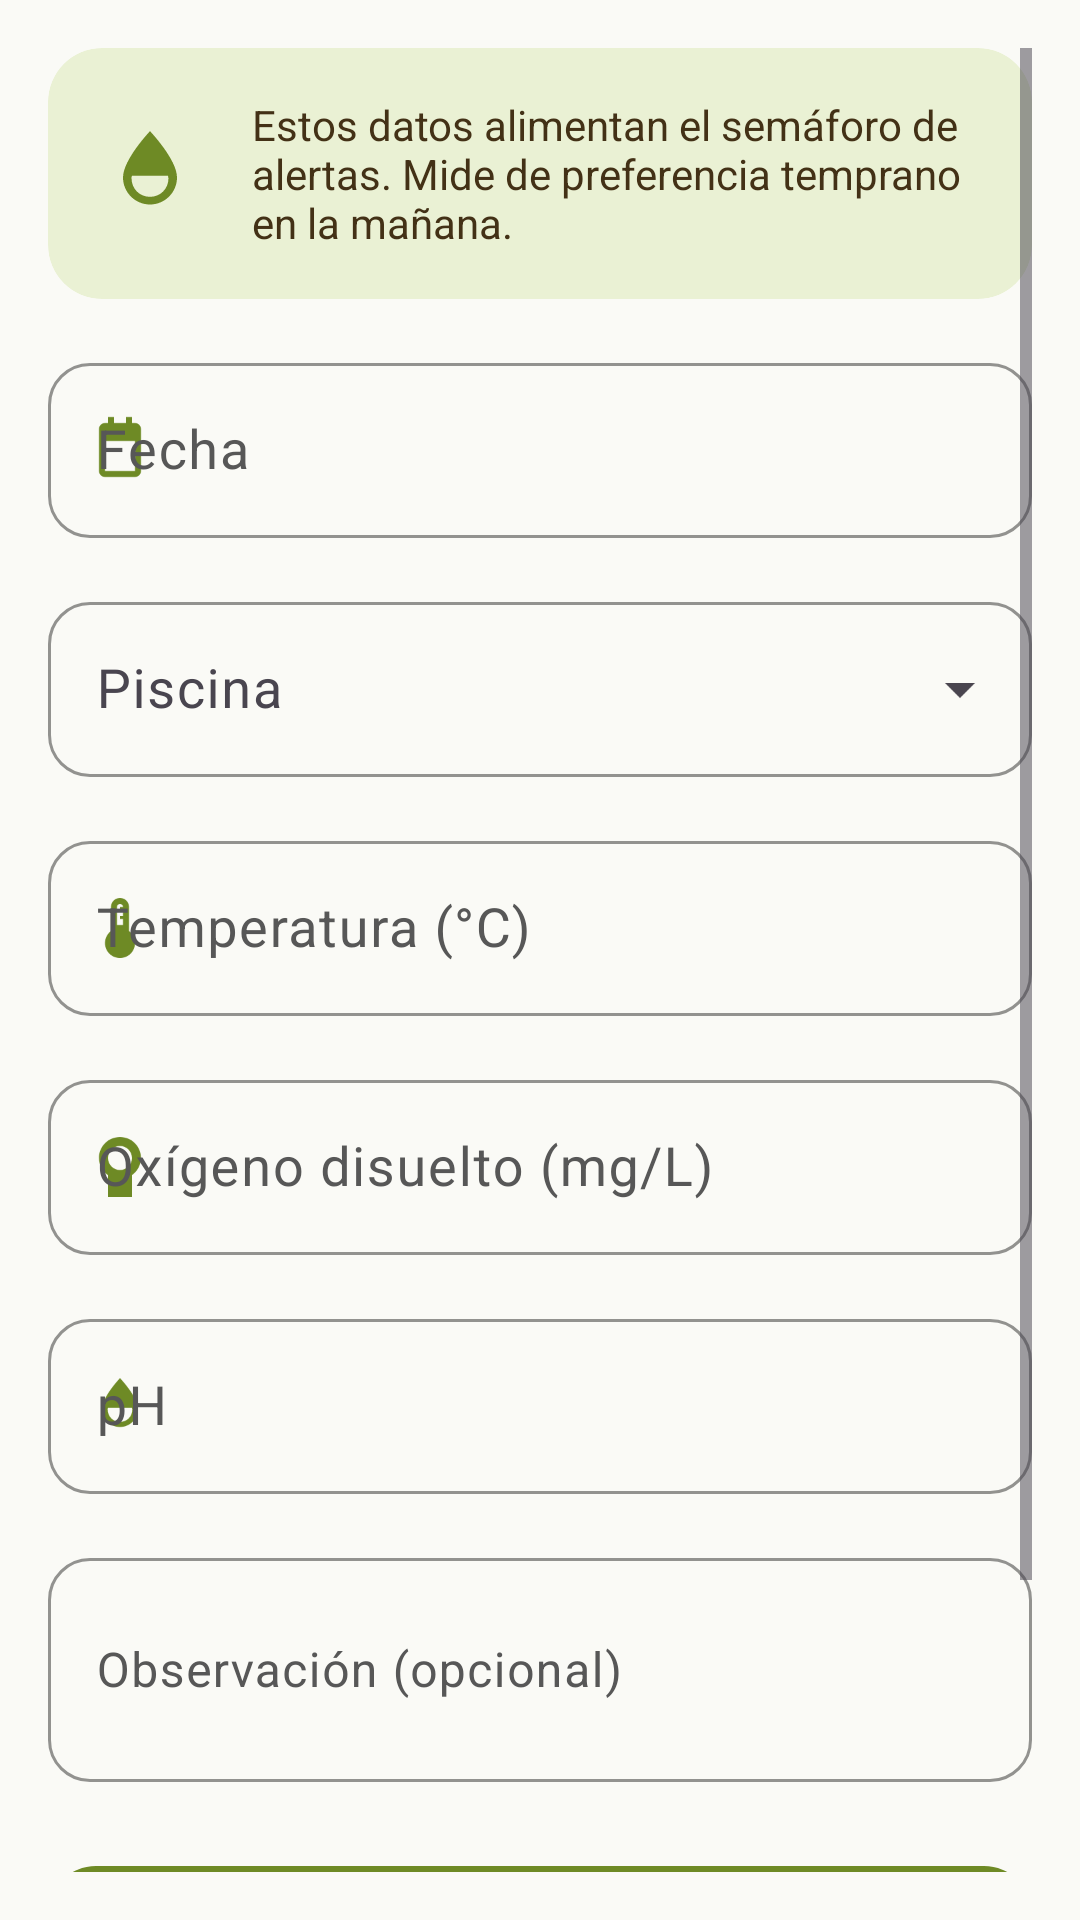

Icons on this 1080px×1920px Android screen, each with its box as (x1, y1, x2, y2):
Agua: (123, 131, 177, 205)
